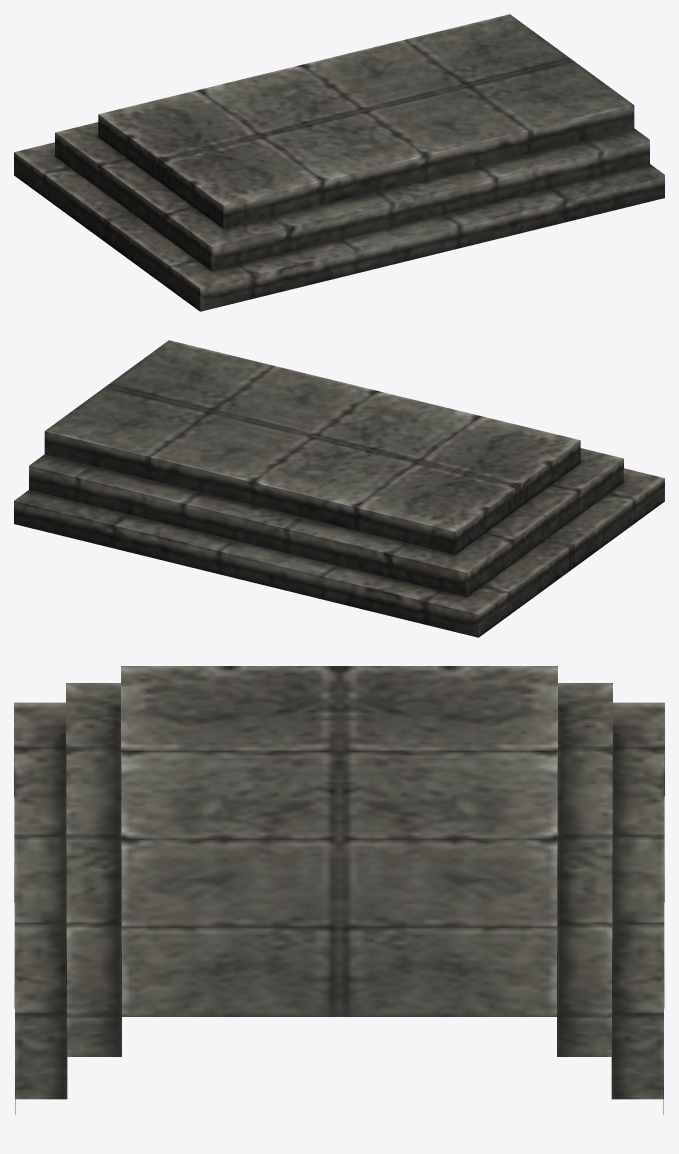
3 views of the same model, one above another, from view 1: azimuth 30°, elevation 25°; view 2: azimuth 150°, elevation 25°; view 3: azimuth 270°, elevation 25° (orthographic). The views are drawn at different scales.
Parts seen in each view (by area): view 1: object23; view 2: object23; view 3: object23.
Boxes of the visible parts, x1,y1,x2,y2 form: object23: [14, 14, 664, 311]; object23: [14, 340, 664, 637]; object23: [14, 666, 664, 1114].
Bounding box in the file's own units: 391 × 56.6 × 271.
1 material, 1 textured.
